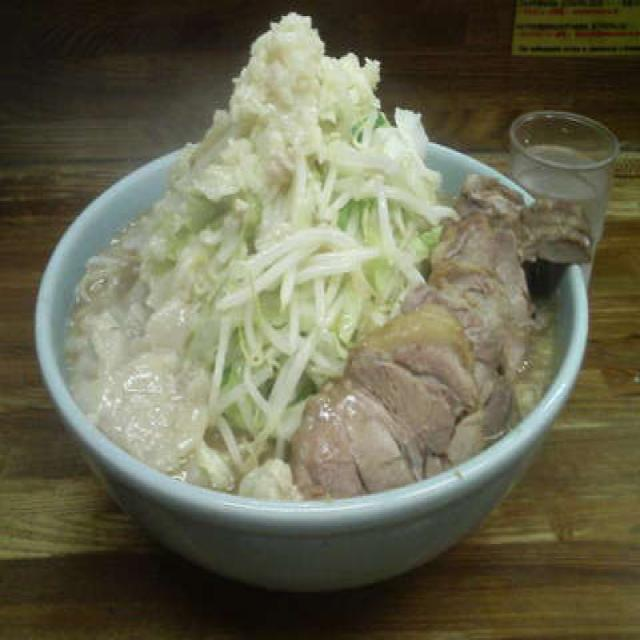面条主食: (32, 7, 592, 592)
